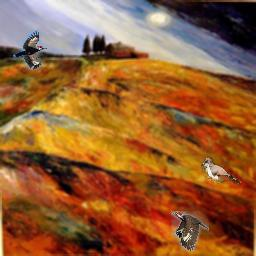Cuckoo: (201, 158, 241, 184)
Woodpecker: (171, 211, 209, 251), (13, 30, 47, 70)
